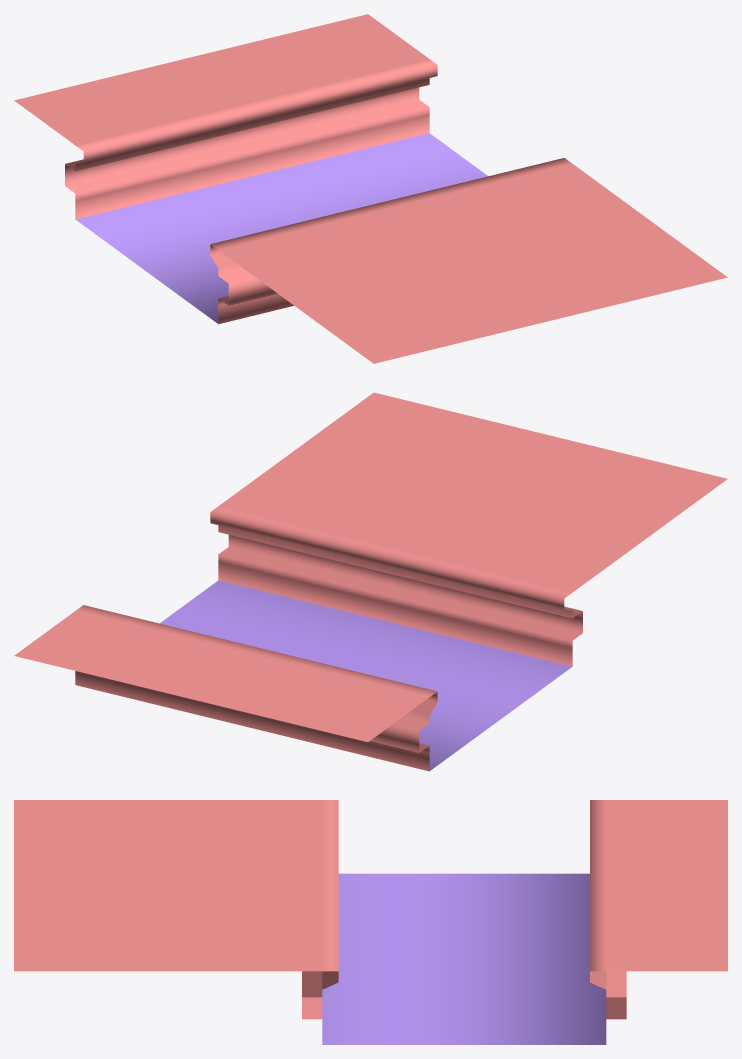
Rendered from Large_Tunnel_Platform.FBX.
3 renders of one model, top to bottom at view 1: azimuth 30°, elevation 25°; view 2: azimuth 150°, elevation 25°; view 3: azimuth 270°, elevation 25°, orthographic.
Parts seen in each view (by area): view 1: Large_Tunnel_Platform; view 2: Large_Tunnel_Platform; view 3: Large_Tunnel_Platform.
Boxes of the visible parts, <box> form: Large_Tunnel_Platform: <box>14,14,727,363</box>; Large_Tunnel_Platform: <box>14,392,727,771</box>; Large_Tunnel_Platform: <box>14,800,727,1044</box>.
Size of the model in its own units: 5 by 1 by 8.8.
